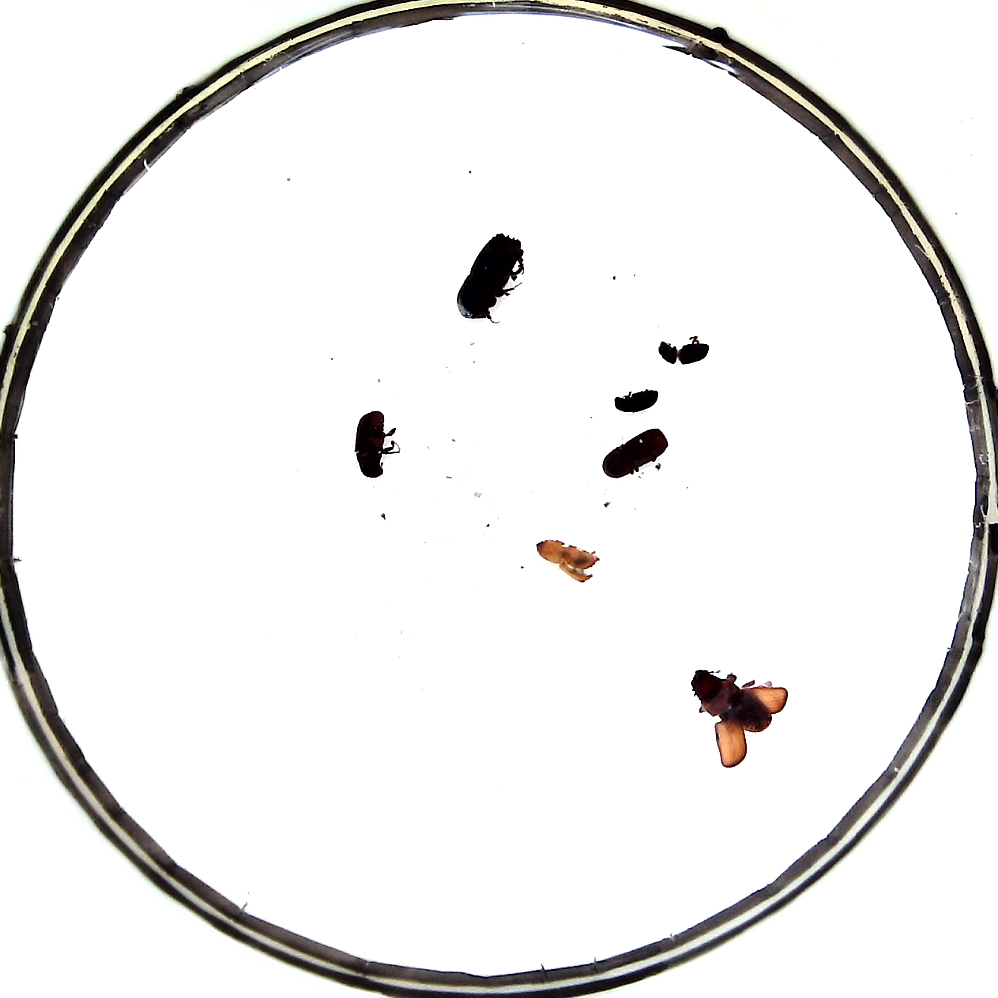Boerner: (456, 232, 524, 318)
Leconte: (688, 669, 770, 733)
acuminatus: (658, 341, 710, 364), (613, 389, 657, 411)
armandi: (355, 411, 385, 477)
coleoptera: (535, 539, 602, 583)
linnaeus: (603, 429, 669, 478)
